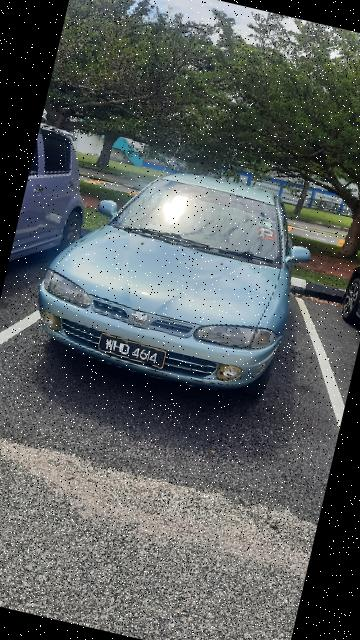License_Plate: (95, 328, 173, 374)
car: (19, 141, 333, 423)
